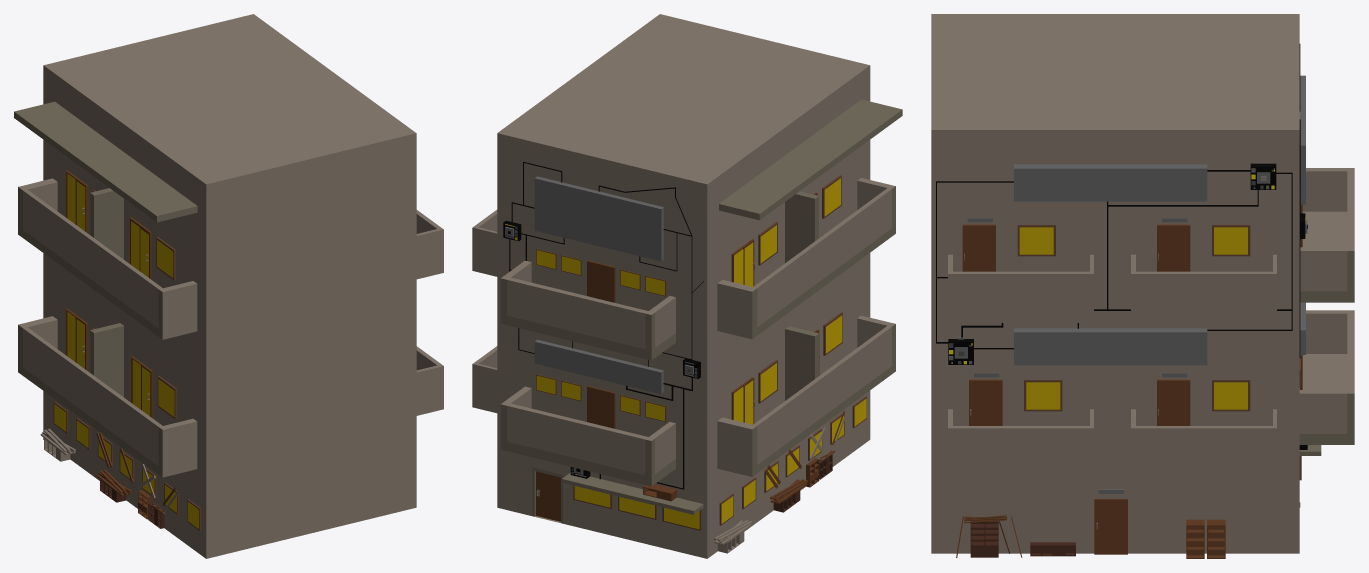
File: Building 4 A4.fbx
3 views of the same model, side by side, from view 1: azimuth 30°, elevation 25°; view 2: azimuth 150°, elevation 25°; view 3: azimuth 270°, elevation 25° (orthographic). The views are drawn at different scales.
Visible parts, largest first — view 1: Cube; view 2: Cube; view 3: Cube.
Part boxes in pixels (x1,y1,x2,y2): Cube: (14, 14, 443, 558); Cube: (472, 14, 902, 558); Cube: (931, 14, 1354, 558).
Size of the model in its own units: 37.43 by 46.86 by 42.44.
